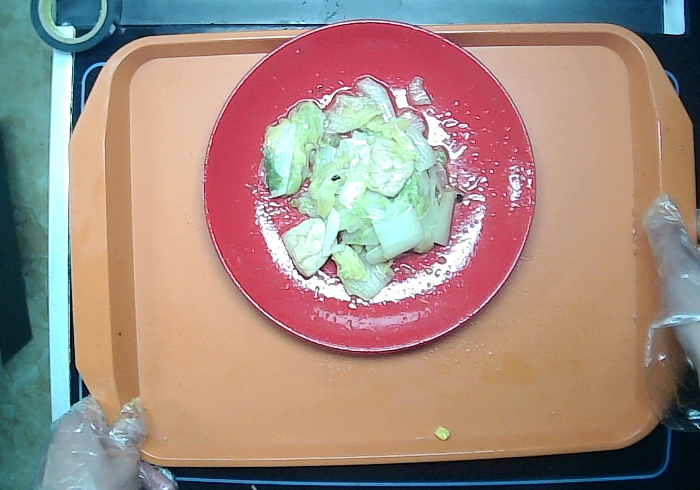HZYJPL-Hong_Se_Yuan_Pan: (202, 17, 537, 355)
